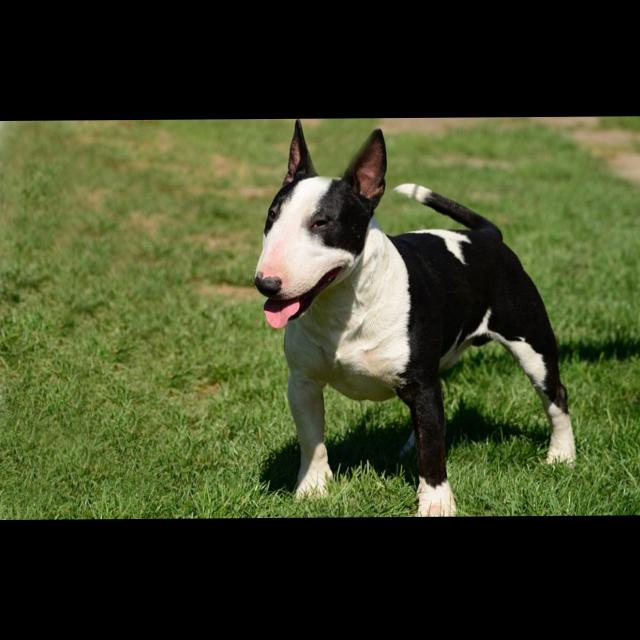bullterrier: (254, 118, 579, 519)
